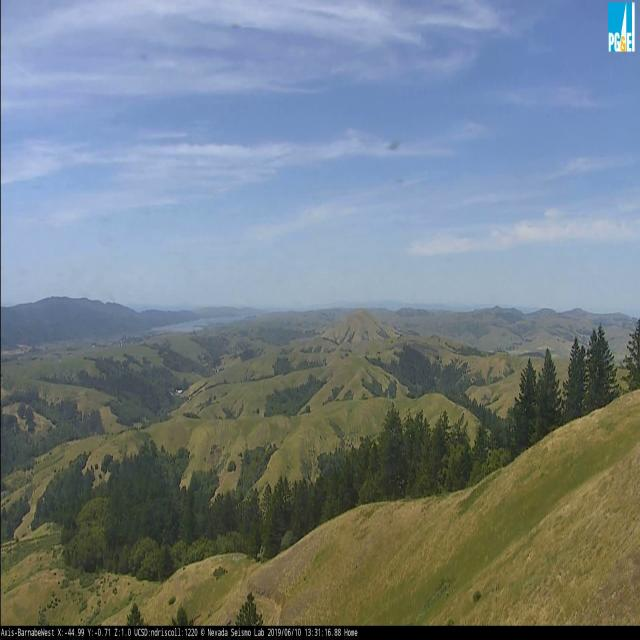smoke: (85, 276, 116, 302)
